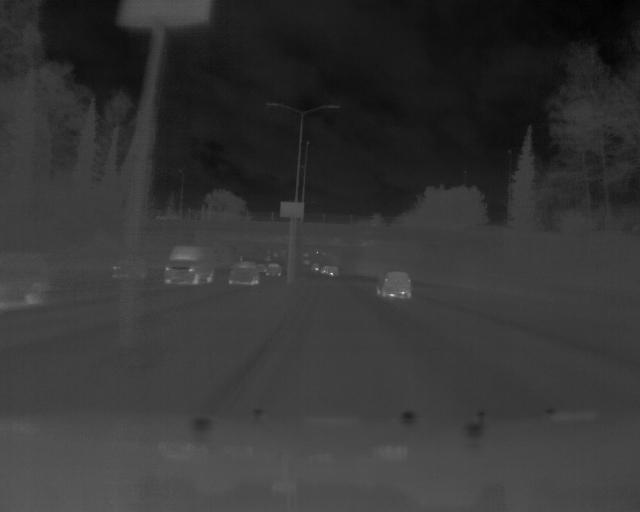car: (163, 243, 216, 287), (374, 265, 419, 303), (226, 260, 261, 284)
